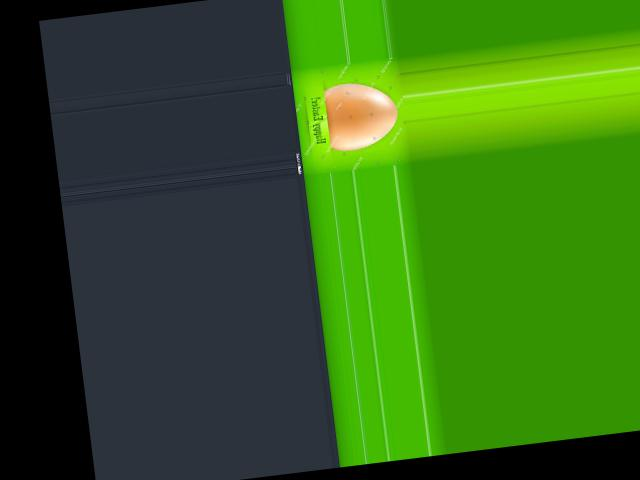egg: (323, 77, 401, 152)
